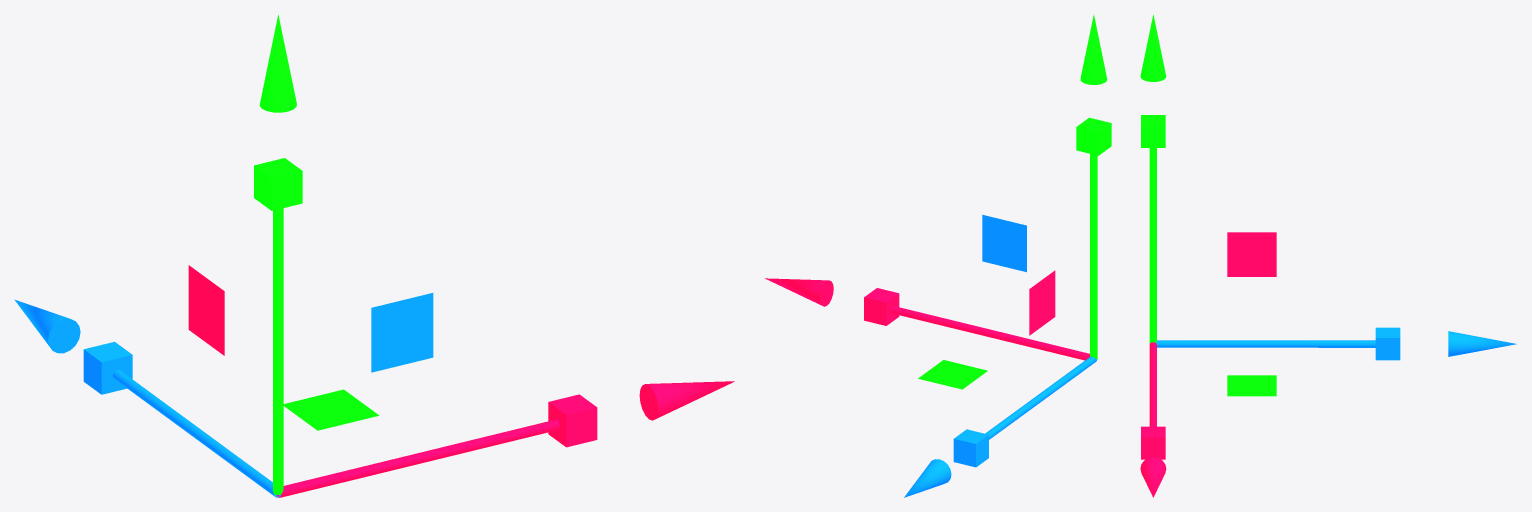
The model's file is gizmo_transscale.glb.
3 views of the same model, side by side, from view 1: azimuth 30°, elevation 25°; view 2: azimuth 150°, elevation 25°; view 3: azimuth 270°, elevation 25° (orthographic). The views are drawn at different scales.
Parts seen in each view (by area): view 1: scale_x, scale_y, scale_z, scale_y_plane, scale_x_plane, scale_z_plane, all_translate_y, all_translate_x, all_translate_z; view 2: scale_x, scale_y, scale_z, scale_y_plane, scale_x_plane, scale_z_plane, all_translate_y, all_translate_x, all_translate_z; view 3: scale_z, scale_y, scale_x_plane, scale_x, scale_z_plane, all_translate_y, all_translate_z, all_translate_x.
Boxes of the visible parts, x1,y1,x2,y2 form: scale_x: (276, 394, 597, 497); scale_y: (254, 158, 302, 494); scale_z: (83, 341, 280, 497); scale_y_plane: (371, 293, 433, 372); scale_x_plane: (188, 265, 224, 355); scale_z_plane: (283, 389, 378, 430); all_translate_y: (259, 15, 296, 112); all_translate_x: (639, 381, 734, 420); all_translate_z: (14, 299, 80, 353); scale_x: (864, 288, 1090, 360); scale_y: (1076, 117, 1111, 359); scale_z: (953, 356, 1096, 467); scale_y_plane: (982, 214, 1026, 272); scale_x_plane: (1029, 270, 1055, 335); scale_z_plane: (918, 360, 987, 389); all_translate_y: (1080, 14, 1107, 84); all_translate_x: (765, 278, 833, 306); all_translate_z: (904, 459, 951, 497); scale_z: (1156, 327, 1400, 360); scale_y: (1141, 115, 1165, 343); scale_x_plane: (1227, 232, 1276, 276); scale_x: (1141, 342, 1165, 459); scale_z_plane: (1227, 375, 1276, 396); all_translate_y: (1140, 15, 1166, 81); all_translate_z: (1448, 331, 1516, 356); all_translate_x: (1140, 457, 1166, 497).
Bounding box in the file's own units: 1.53 × 1.53 × 1.53.
